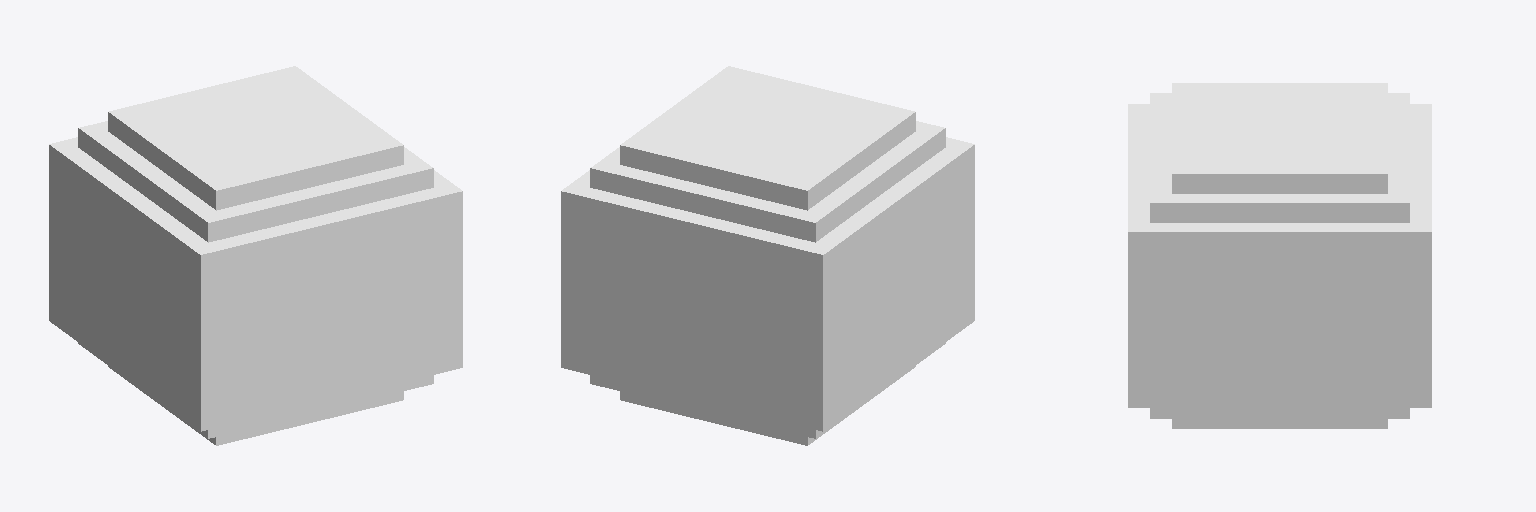
The model's file is SnowGlobeTop.obj.
3 views of the same model, side by side, from view 1: azimuth 30°, elevation 25°; view 2: azimuth 150°, elevation 25°; view 3: azimuth 270°, elevation 25° (orthographic).
Parts seen in each view (by area): view 1: object 1; view 2: object 1; view 3: object 1.
Part boxes in pixels (x1,y1,x2,y2): object 1: (49,66,462,445); object 1: (561,66,974,445); object 1: (1128,83,1431,428).
Size of the model in its own units: 1.4 by 1.3 by 1.4.